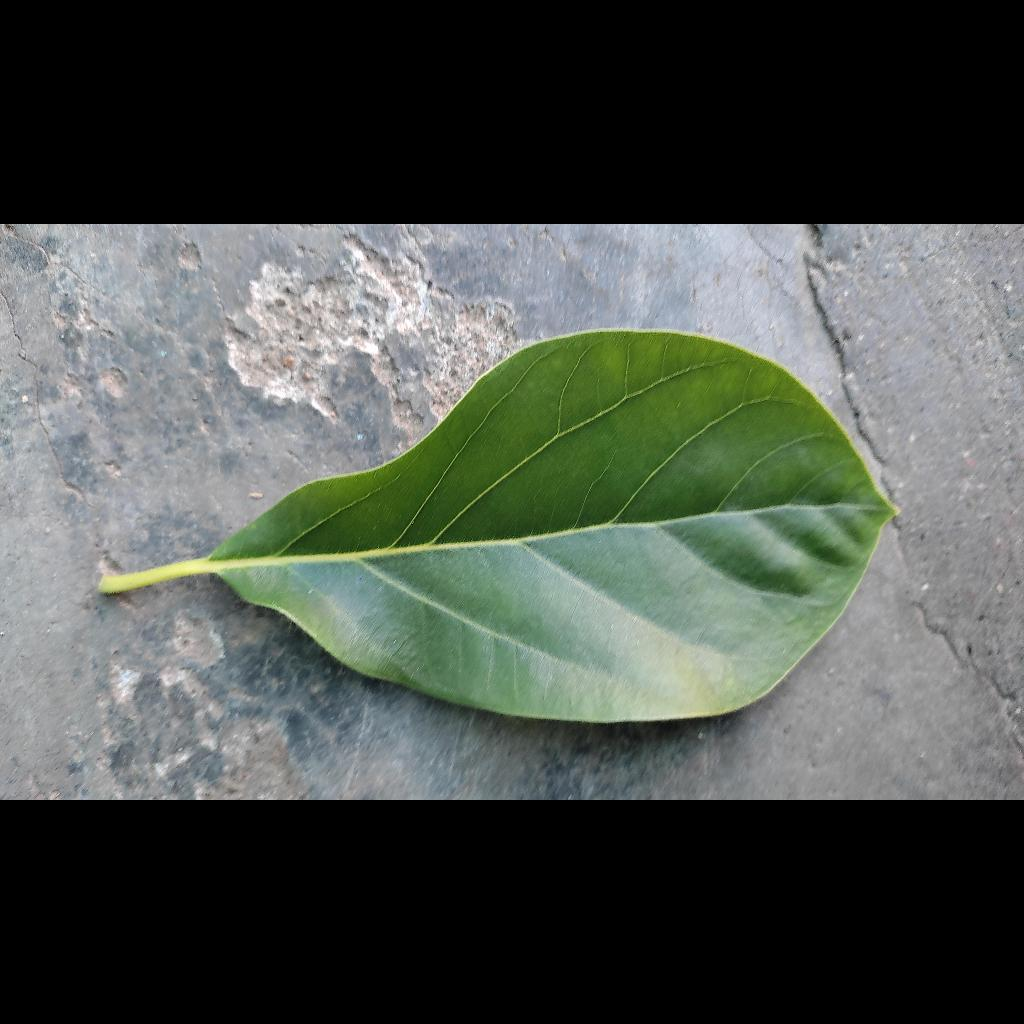Healthy: (100, 330, 895, 722)
